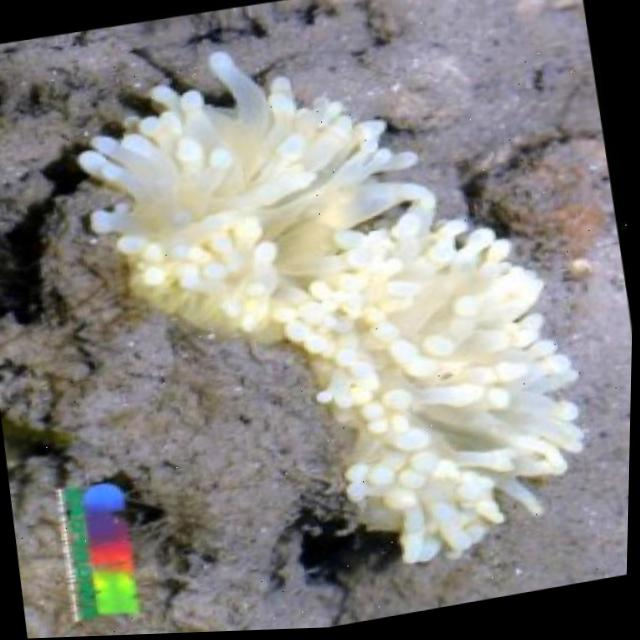Bleached Coral: (47, 6, 640, 610)
